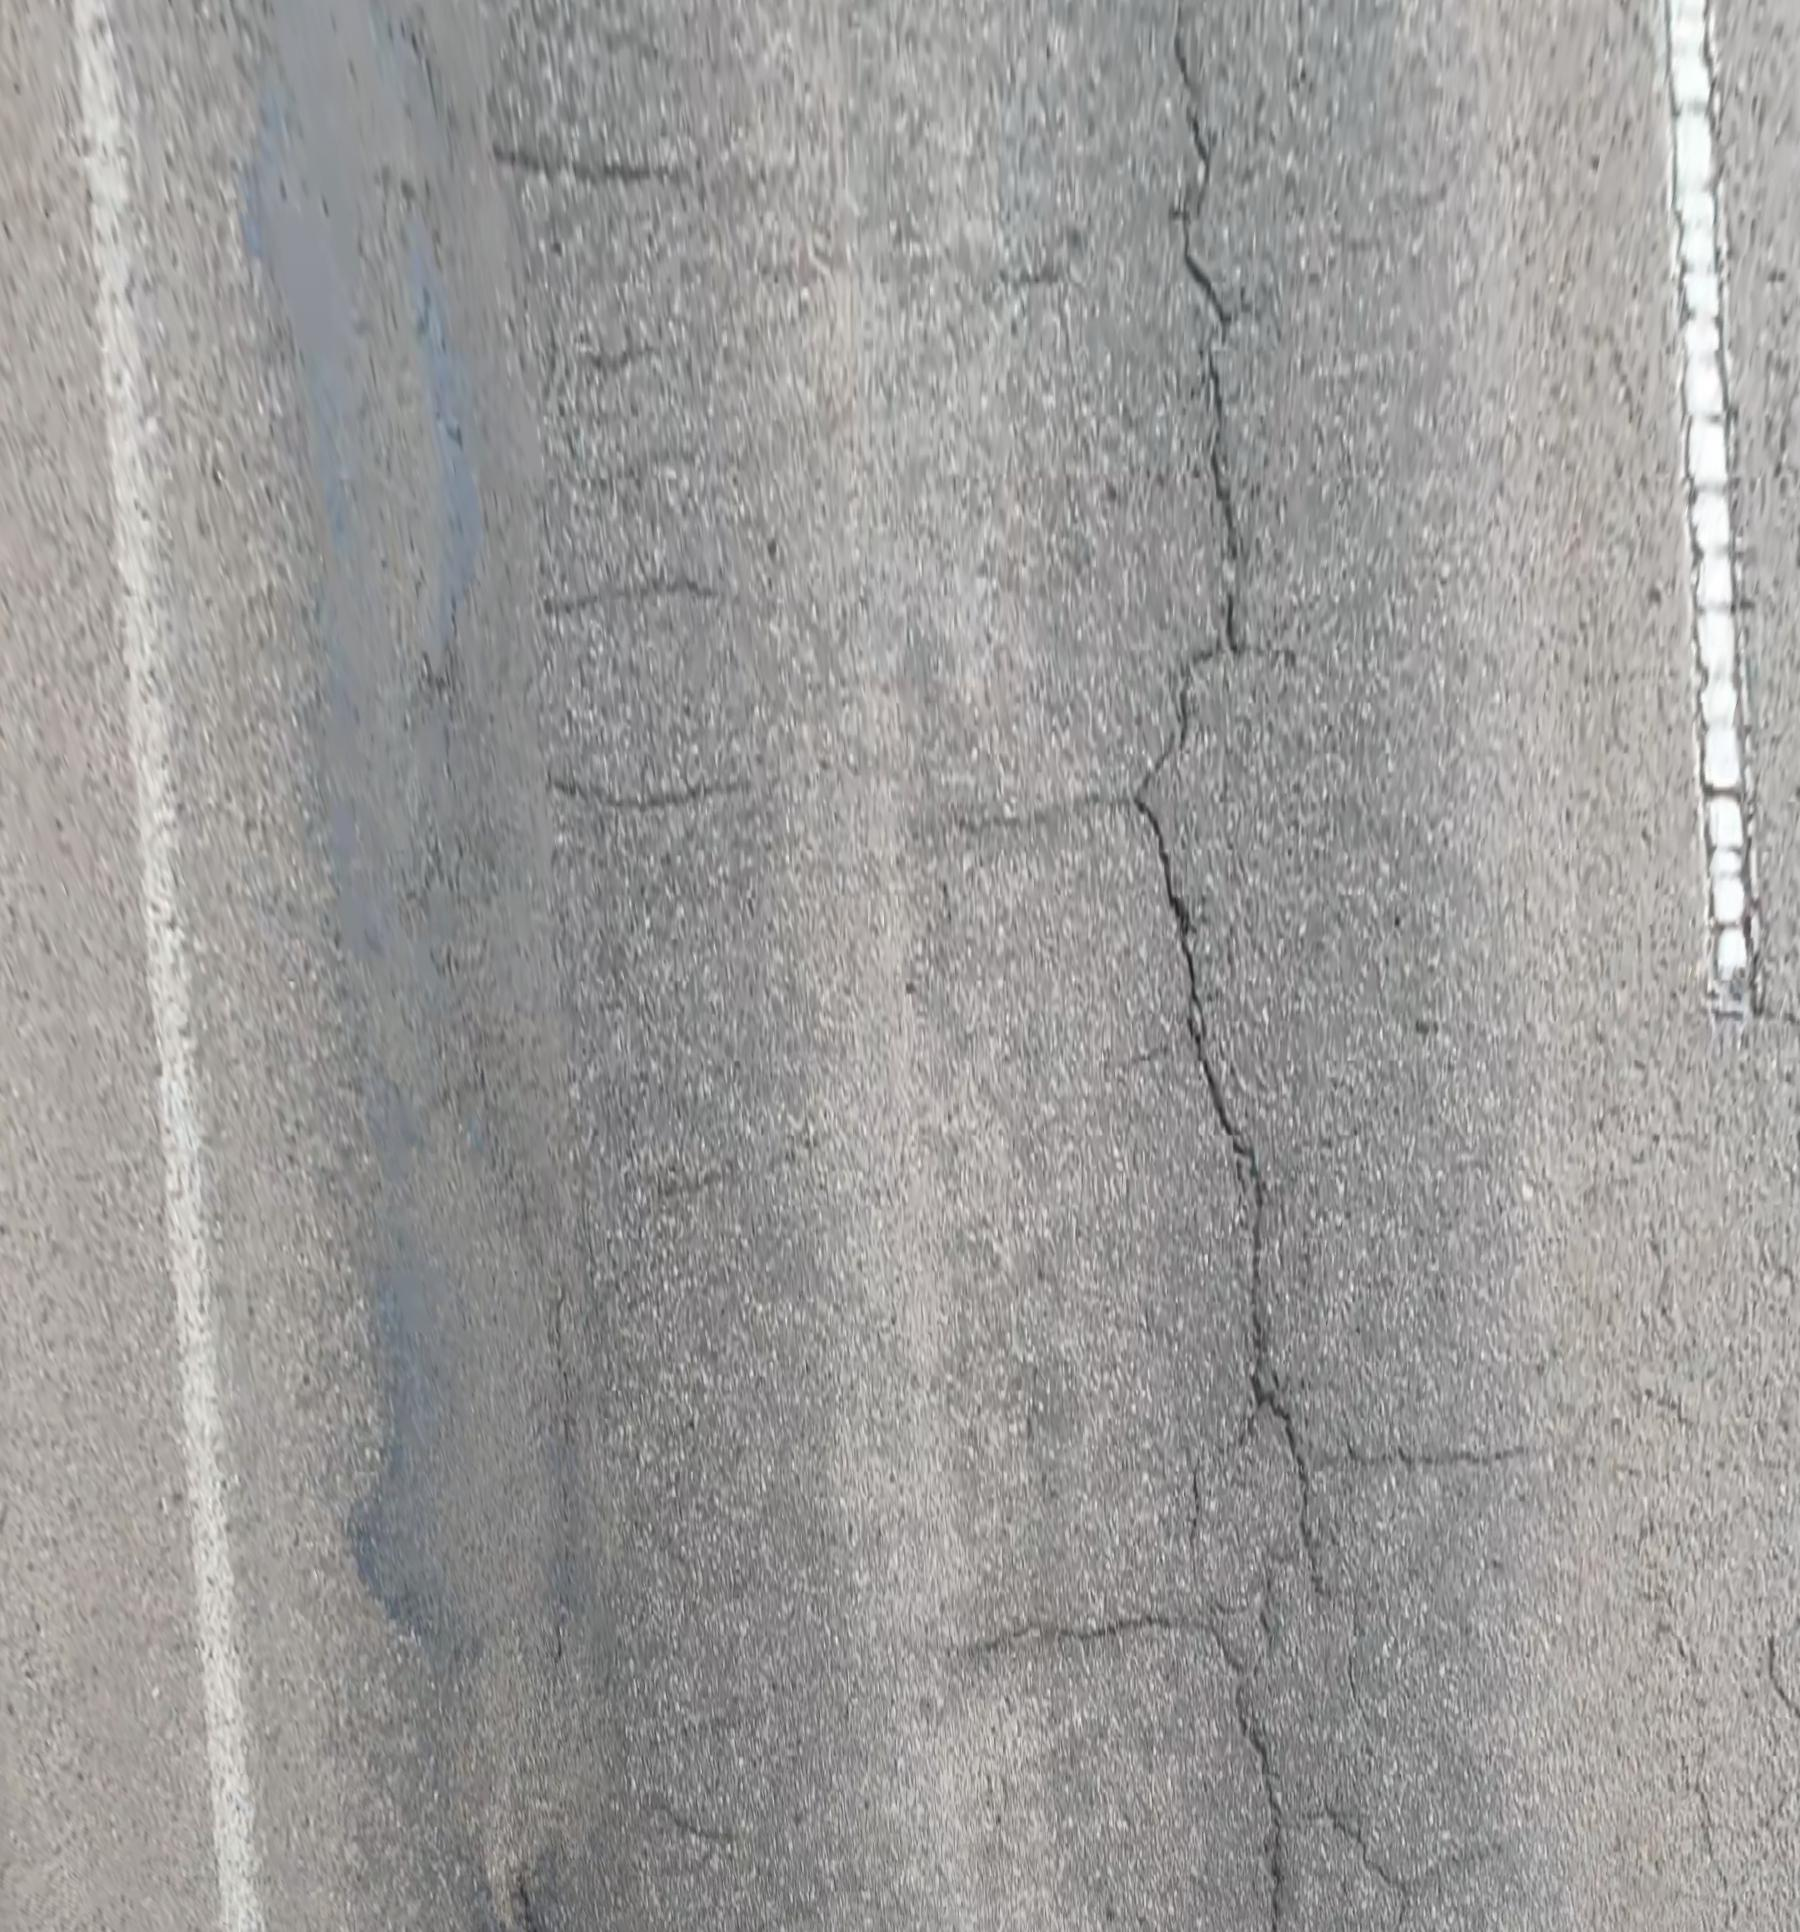pothole_patch_good: (233, 0, 563, 1665)
